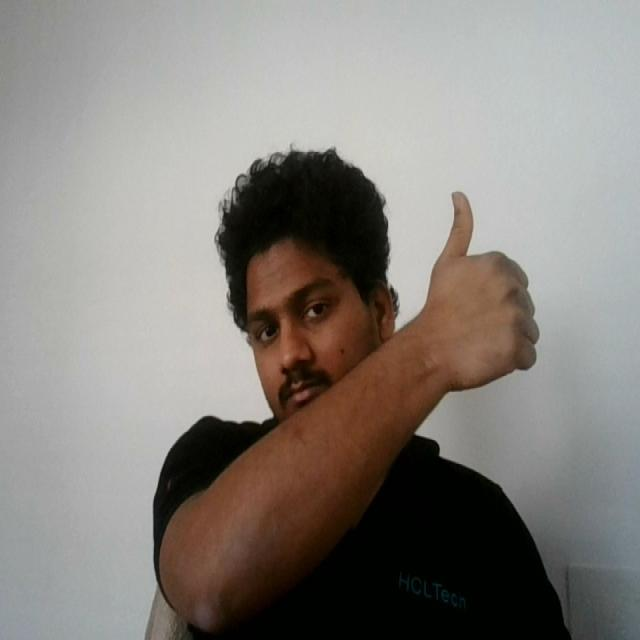Yes: (412, 181, 547, 402)
